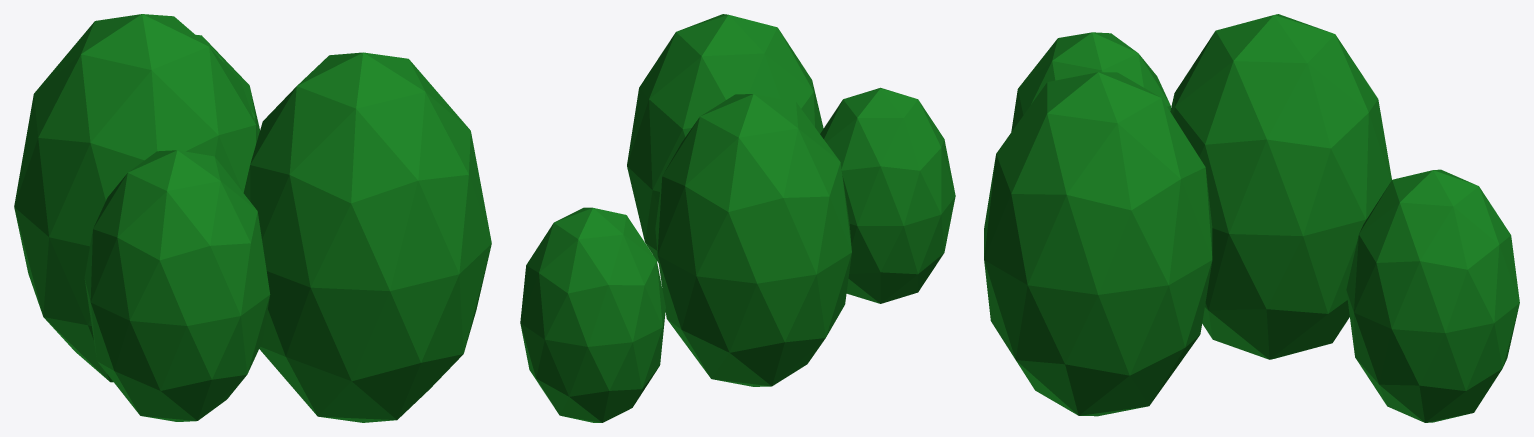
File: blockout1.treecluster4.fbx
3 views of the same model, side by side, from view 1: azimuth 30°, elevation 25°; view 2: azimuth 150°, elevation 25°; view 3: azimuth 270°, elevation 25° (orthographic). The views are drawn at different scales.
Parts seen in each view (by area): view 1: Icosphere.030; view 2: Icosphere.030; view 3: Icosphere.030.
Boxes of the visible parts, box(x1,y1,x2,y2) form: Icosphere.030: box(14, 14, 491, 422); Icosphere.030: box(520, 14, 955, 422); Icosphere.030: box(984, 14, 1519, 422).
Size of the model in its own units: 572 by 545 by 747.
